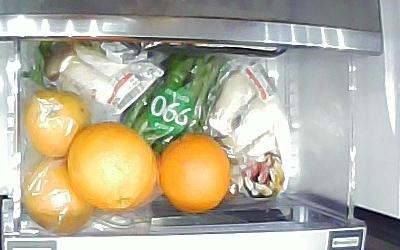orange: (67, 122, 158, 212), (157, 133, 230, 213)
orange_vinyl: (24, 161, 92, 232), (26, 90, 90, 160)
